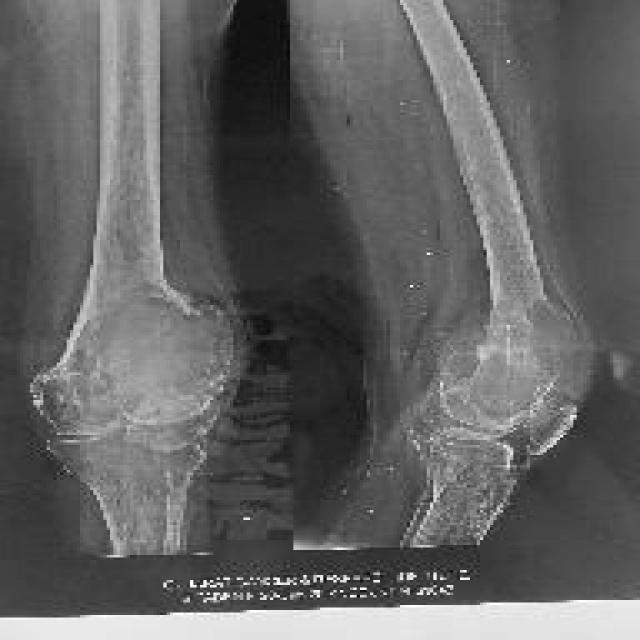bone-cancer: (65, 287, 235, 399), (458, 295, 576, 414)
